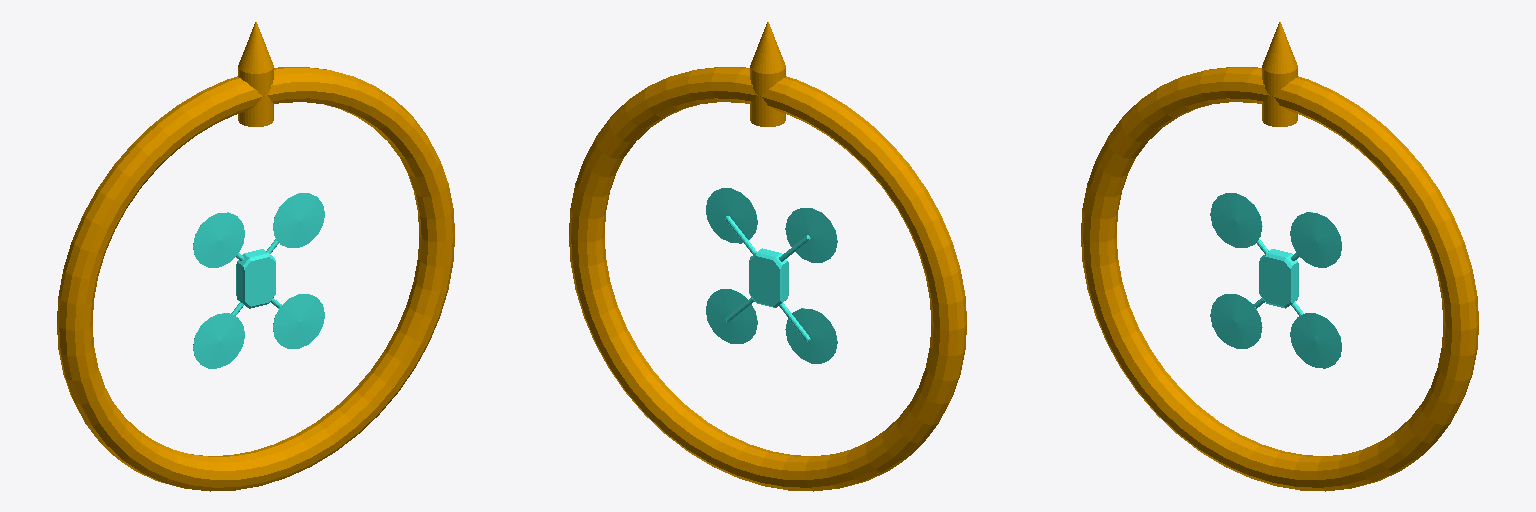
The robot description file, URDF, robot "quadrotor":
<?xml version="1.0" ?>

<!-- adapted from [author], [author], [author], "Trajectory Generation and Control for Precise Aggressive Maneuvers with Quadrotors" -->

<robot xmlns="http://drake.mit.edu"
 xmlns:xsi="http://www.w3.org/2001/XMLSchema-instance"
 xsi:schemaLocation="http://drake.mit.edu ../../../../pods/drake/doc/drakeURDF.xsd" name="quadrotor">

  <material name="colors_primary">
    <color rgba="0.8125 0.46 0.492 1"/>
  </material>

  <material name="colors_secondary">
    <color rgba="0.3007 0.9765 0.922 1"/>
  </material>

  <material name="colors_secondary2">
    <color rgba="0.8 0.99 0.9765 1"/>
  </material>

  <material name="white">
    <color rgba="1 1 1 1"/>
  </material>

  <link name="base_link">

    <visual>
      <origin rpy="1.57079 1.57079 0" xyz="0 0 0"/>
      <geometry>
        <mesh filename="package://resources/meshes/drone_adapted.stl" scale="0.12 0.12 0.12"/>
      </geometry>
      <material name="colors_secondary"/>
    </visual>
    <visual>
      <origin rpy="1.57079 -1.57079 0" xyz="0 0 0"/>
      <geometry>
        <mesh filename="package://resources/meshes/drone_location_indicator.stl" scale="0.12 0.12 0.12"/>
      </geometry>
    </visual>

    <collision>
      <origin rpy="0 0 0" xyz="0 0 0"/>
      <geometry>
        <cylinder radius=".1" length=".06"/>
      </geometry>
    </collision>      
  </link>
  <link name="camera">
    <parent link="base_link"/>
  </link>
  <joint name="base_to_camera" type="fixed">
    <parent link="base_link"/>
    <child link="camera"/>
  </joint>
  <frame link="base_link" name="body" rpy="0 0 0" xyz="0 0 0" />
  <frame link="camera" name="camera1" rpy="0 0 0" xyz="0.3 0 0" />
</robot>

--- What the picture shows (computed from the rendered views, not written in the file) ---
Views: 3 orthographic renders of the robot side by side, from view 1: azimuth 30°, elevation 25°; view 2: azimuth 150°, elevation 25°; view 3: azimuth 330°, elevation 25°.
Robot: quadrotor — 2 links, 1 joints (1 fixed); root link base_link; default pose: all joints at 0.
Links seen in each view (by area): view 1: base_link; view 2: base_link; view 3: base_link.
Boxes of the visible links, x1=… form: base_link: x1=57, y1=22, x2=454, y2=491; base_link: x1=569, y1=22, x2=966, y2=491; base_link: x1=1081, y1=22, x2=1478, y2=491.
Bounding box of the posed robot: 0.3648 × 0.0288 × 0.4114 m (x, y, z).
Meshes: 2 distinct files referenced, 2 mesh visuals loaded (2 binary STL).
